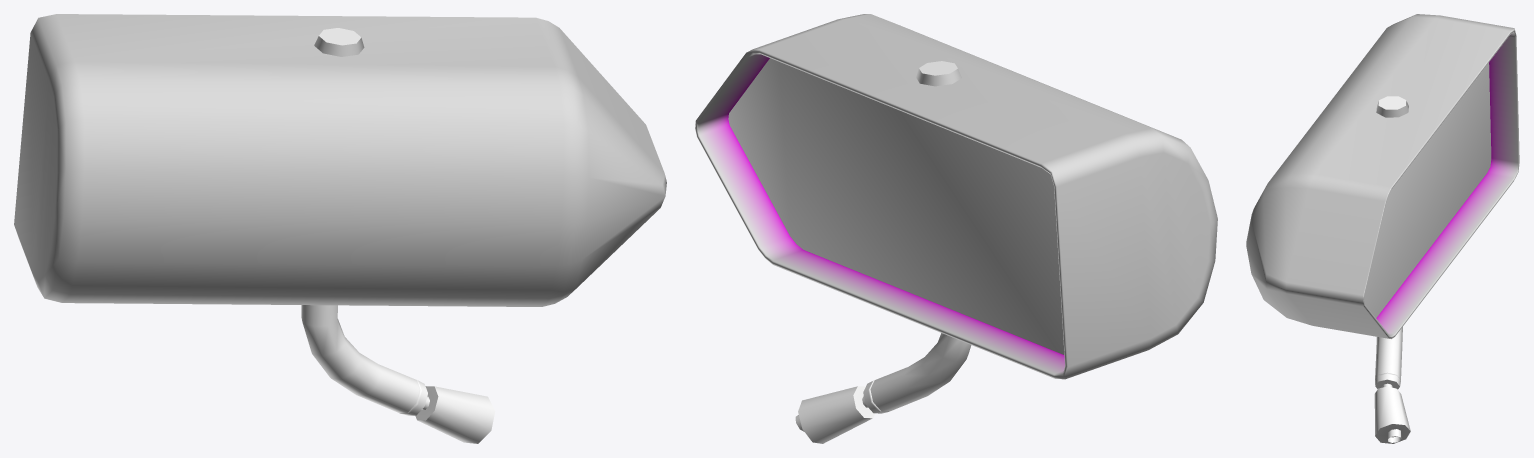
File: Car_Buick_GrandNational_1987_MirrorR_SetXU.fbx
3 renders of one model, left to right at view 1: azimuth 30°, elevation 25°; view 2: azimuth 150°, elevation 25°; view 3: azimuth 270°, elevation 25°, orthographic. The views are drawn at different scales.
Parts seen in each view (by area): view 1: MirrorR 6; view 2: MirrorR 6; view 3: MirrorR 6.
Part boxes in pixels (bbox=[...]): MirrorR 6: bbox=[14, 14, 666, 443]; MirrorR 6: bbox=[695, 14, 1217, 443]; MirrorR 6: bbox=[1246, 14, 1519, 443].
Bounding box in the file's own units: 0.1897 × 0.1402 × 0.1137.
